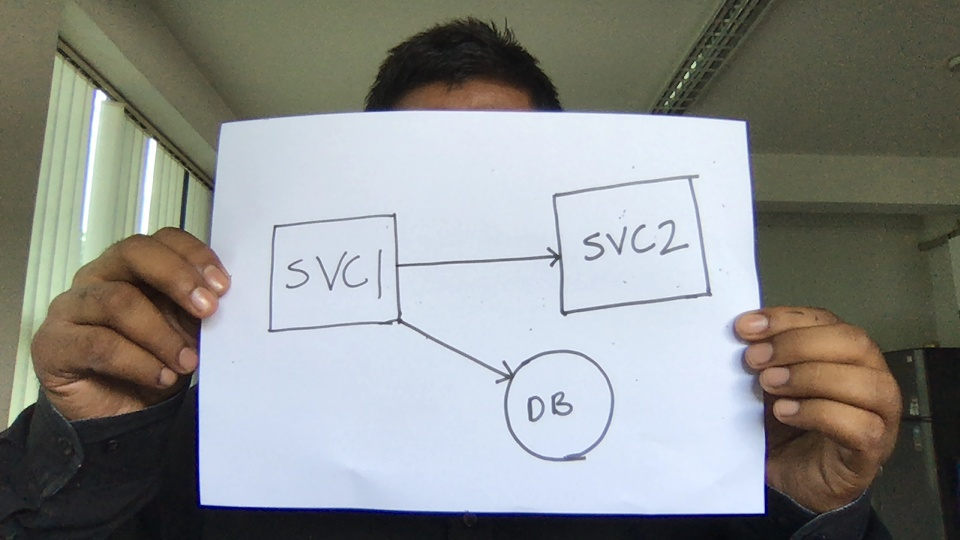db: (500, 344, 618, 468)
ec2: (547, 171, 716, 318), (260, 209, 413, 341)
